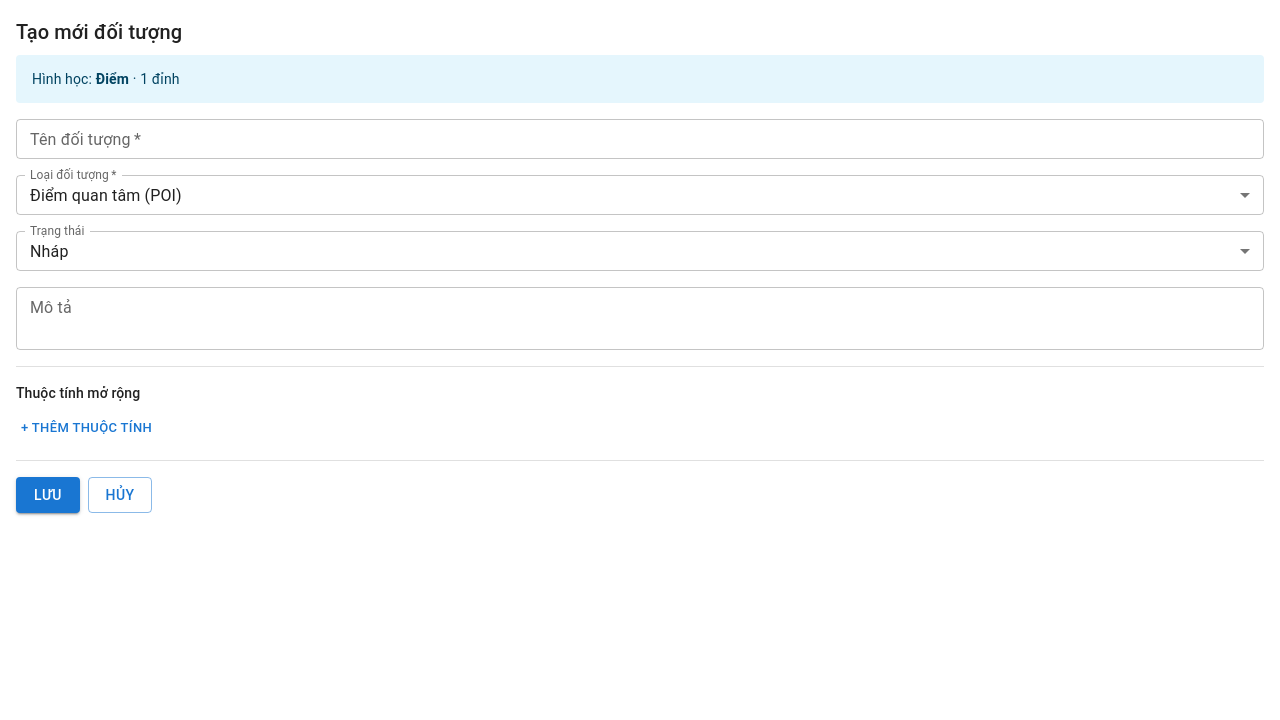
it: FeatureForm › thêm và xóa dòng thuộc tính động
The width and height of the screenshot is (1280, 720).
What coordinates should you click on to do the following:
click the button "+ Thêm thuộc tính"
I would click on:
 (87, 428)
Its box is [16, 413, 157, 444].
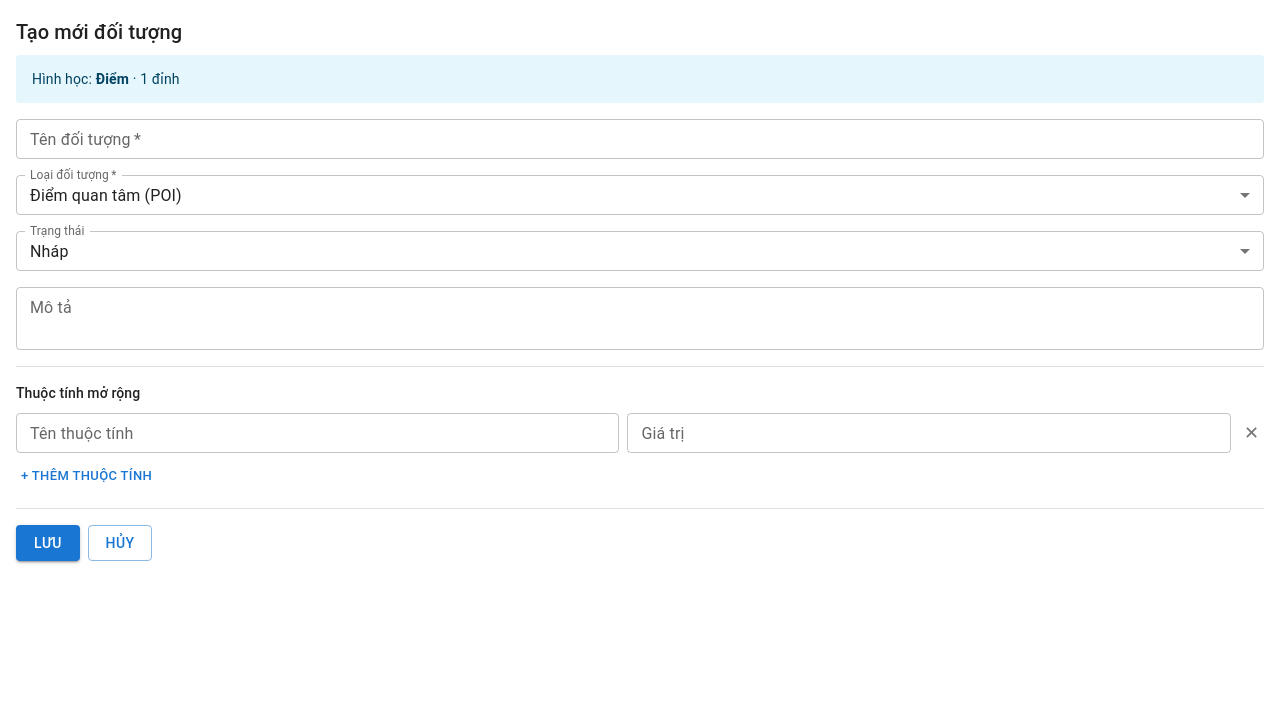
What coordinates should you click on to do the following:
click the button "+ Thêm thuộc tính"
I would click on:
 (87, 476)
Its box is [16, 461, 157, 492].
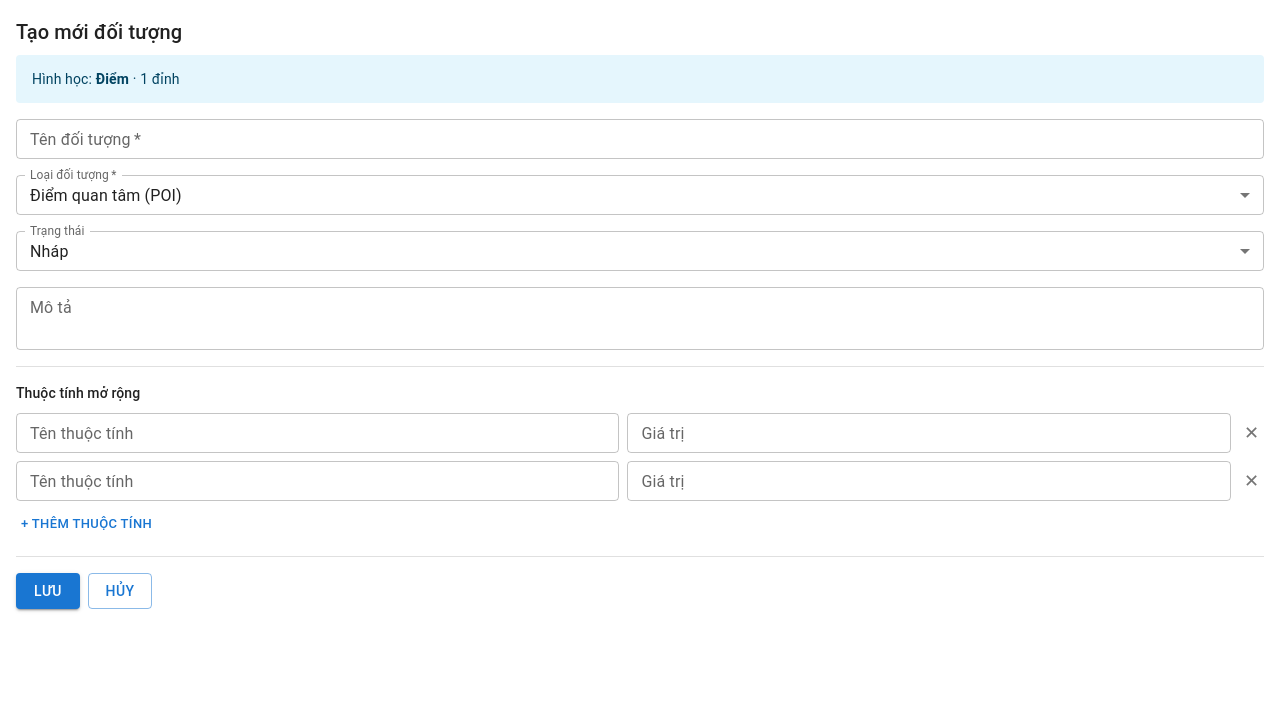
Result: the number of fields labelled "Tên thuộc tính" is 2 at [16, 413, 620, 453]; [16, 461, 620, 501]
What coordinates should you click on to do the following:
click the button named "Xóa thuộc tính"
I would click on:
 (1251, 433)
Its box is [1239, 417, 1264, 449].
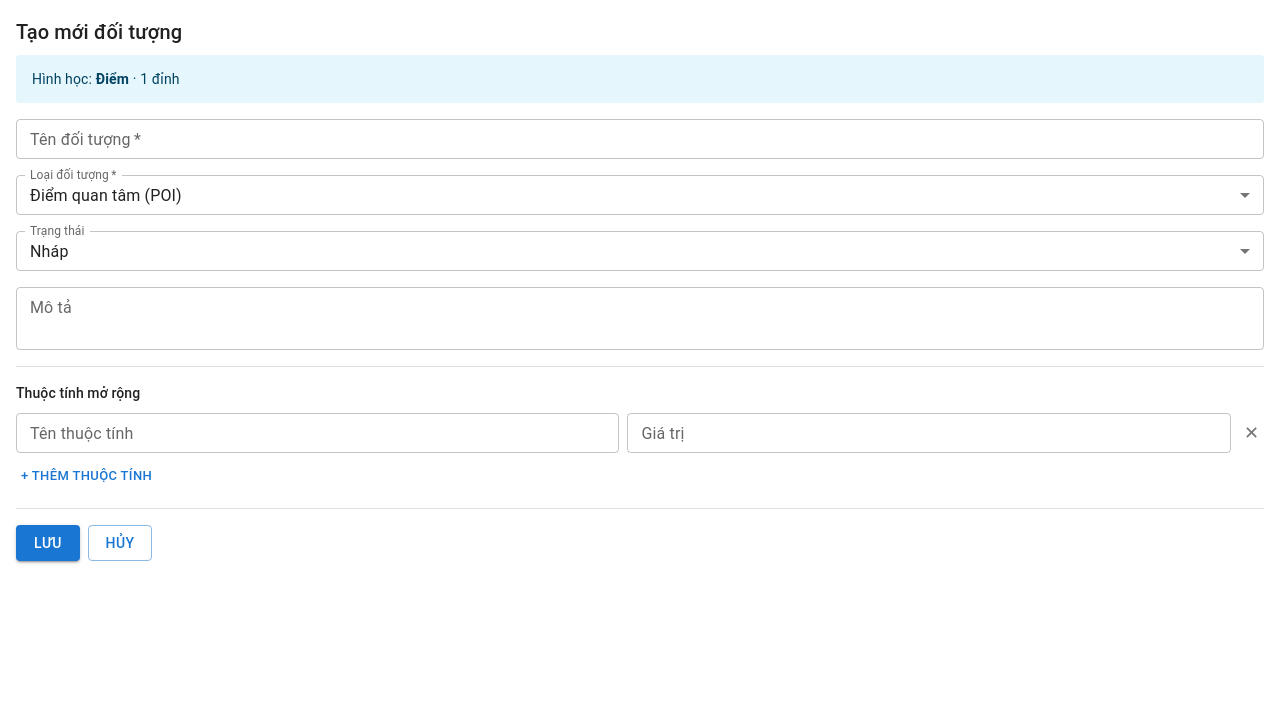
Result: the number of fields labelled "Tên thuộc tính" is 1 at [16, 413, 620, 453]
